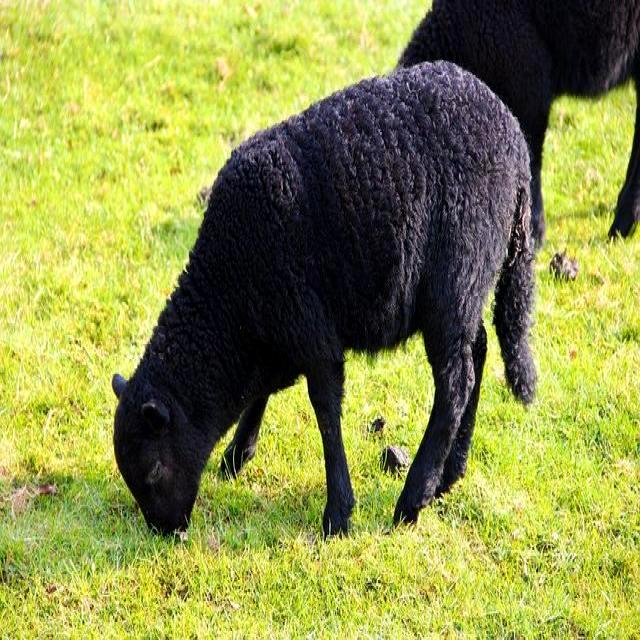sheep: (111, 59, 539, 538)
